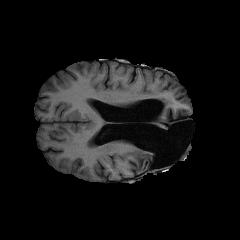glioma: (127, 138, 185, 171)
